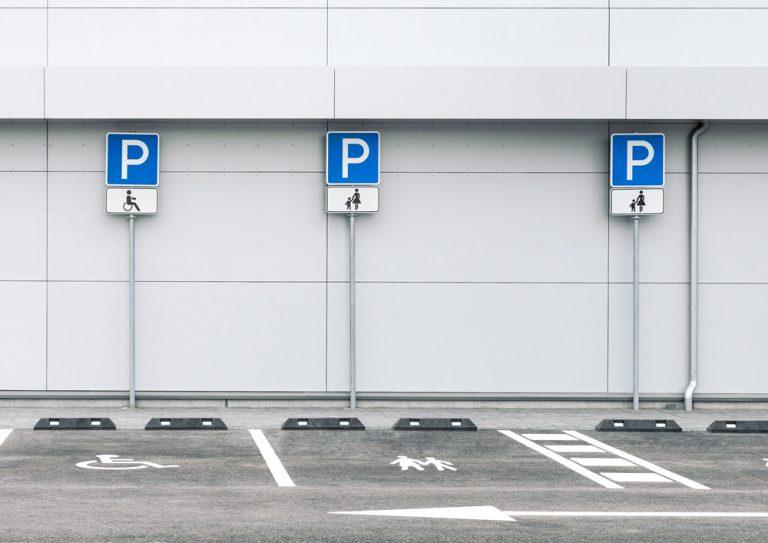parking: (614, 135, 666, 190), (105, 133, 157, 186), (328, 134, 379, 185)
